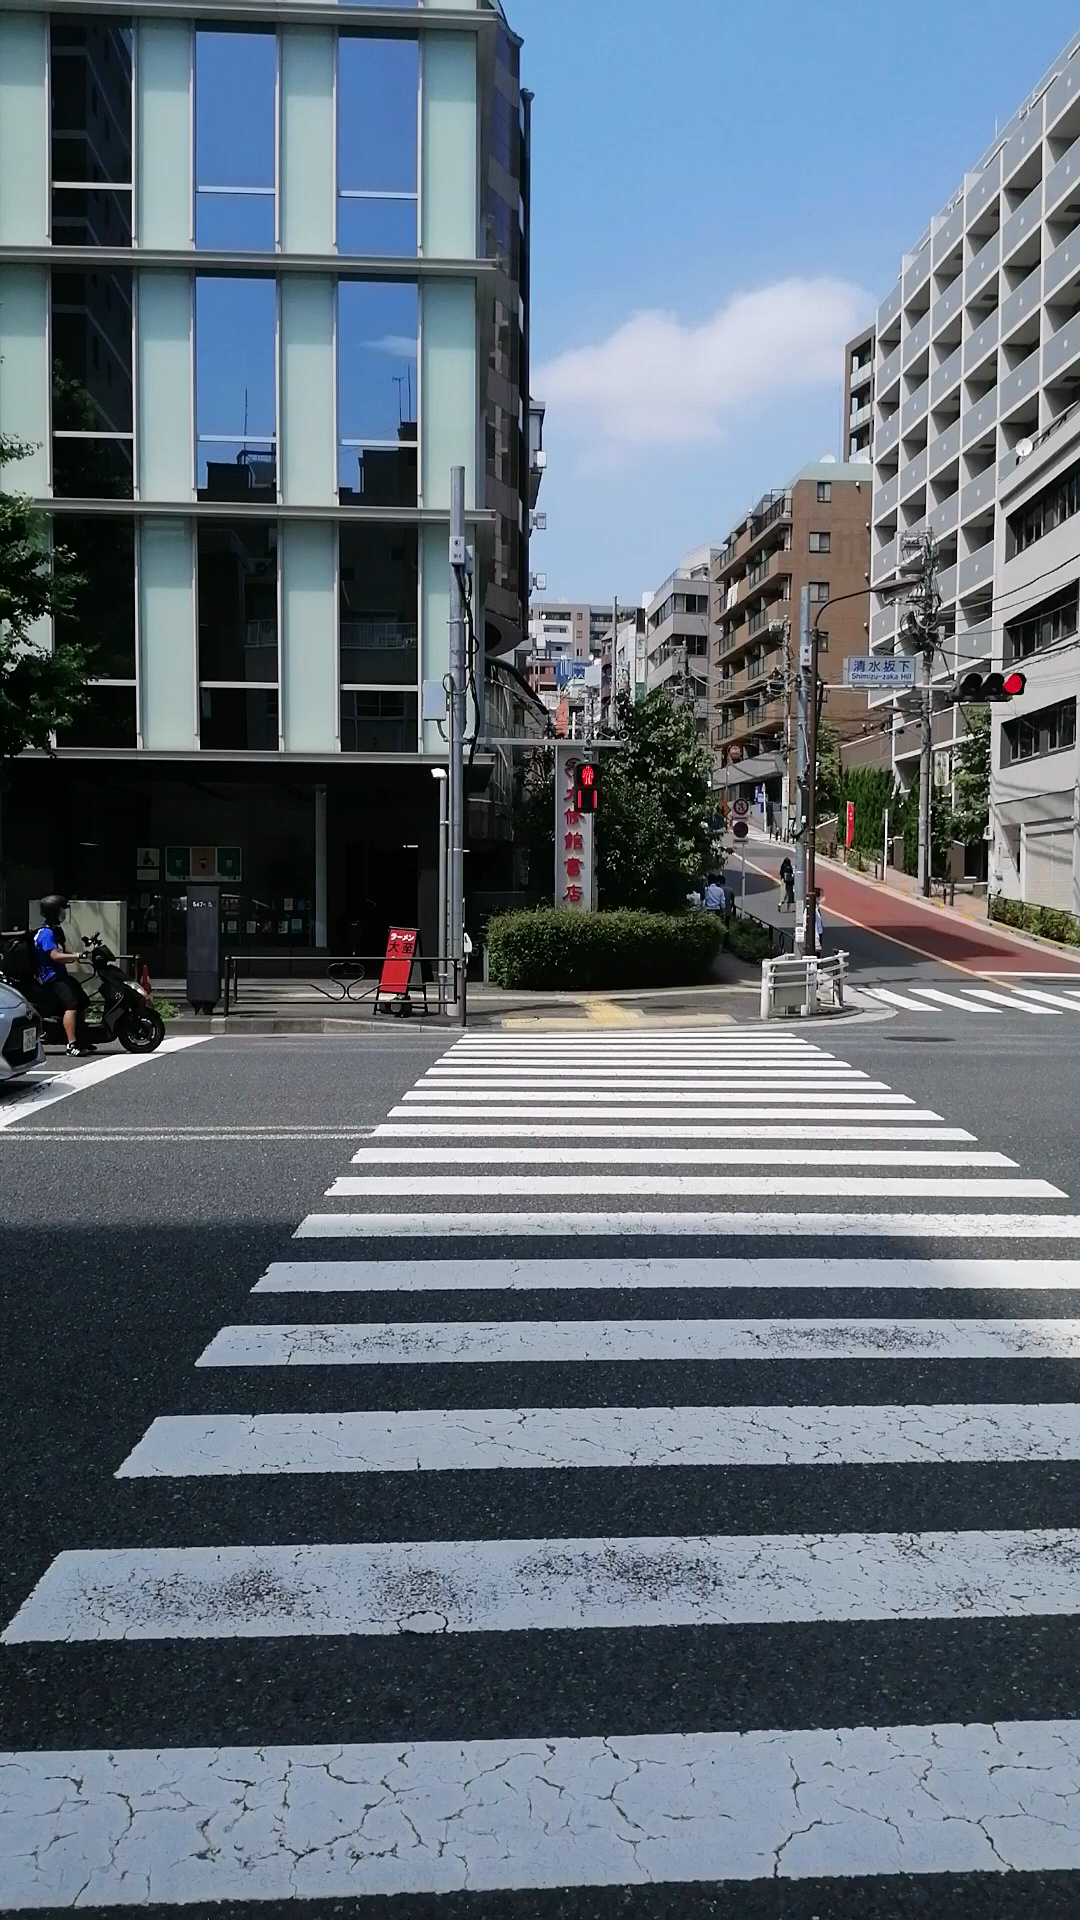red: (572, 762, 603, 812)
